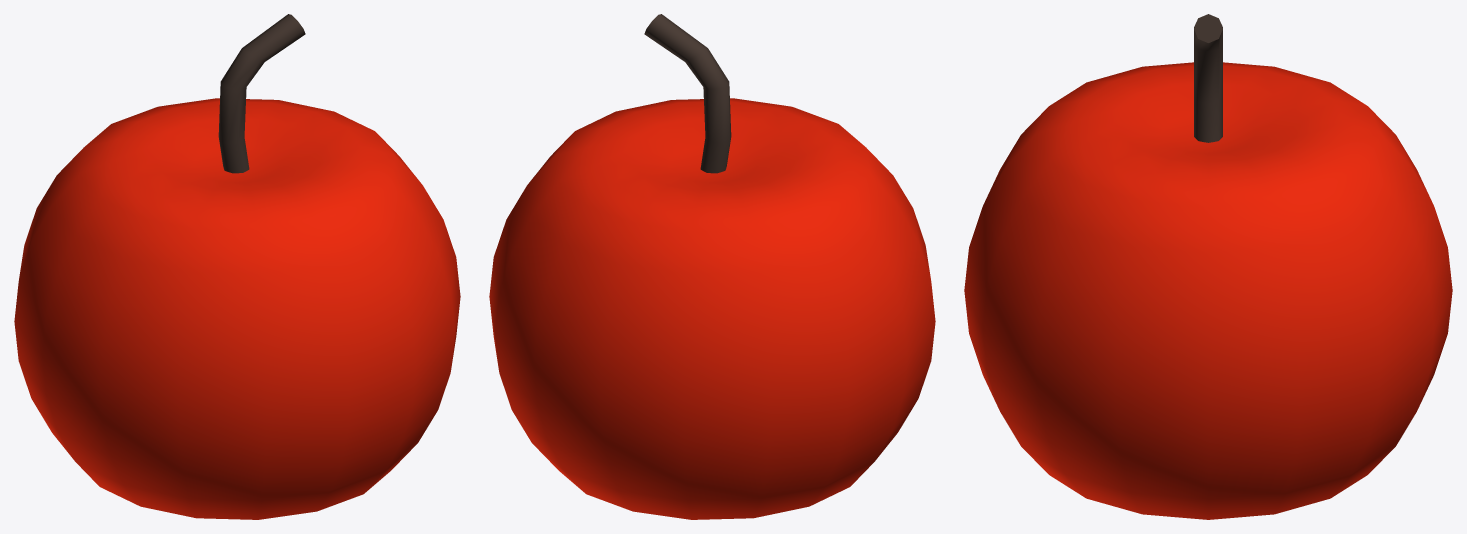
File: SM_Apple.fbx
3 renders of one model, left to right at view 1: azimuth 30°, elevation 25°; view 2: azimuth 150°, elevation 25°; view 3: azimuth 270°, elevation 25°, orthographic. The views are drawn at different scales.
Visible parts, largest first — view 1: Apple_Fruit, Apple_Stalk; view 2: Apple_Fruit, Apple_Stalk; view 3: Apple_Fruit, Apple_Stalk.
Boxes of the visible parts, x1=… form: Apple_Fruit: x1=14, y1=98, x2=460, y2=519; Apple_Stalk: x1=218, y1=14, x2=305, y2=173; Apple_Fruit: x1=489, y1=98, x2=935, y2=519; Apple_Stalk: x1=644, y1=14, x2=731, y2=173; Apple_Fruit: x1=964, y1=62, x2=1452, y2=519; Apple_Stalk: x1=1194, y1=14, x2=1222, y2=142.
Bounding box in the file's own units: 89.36 × 95.63 × 89.36.
